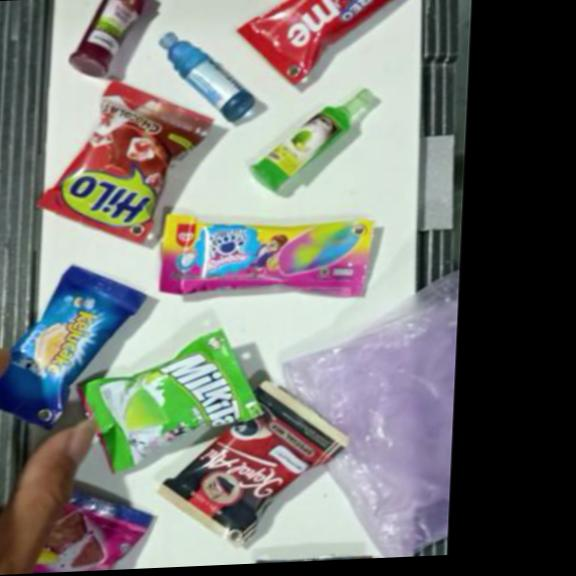Plastik: (274, 267, 461, 563), (156, 376, 353, 548), (36, 75, 213, 249), (70, 326, 262, 476), (0, 262, 148, 431), (158, 205, 374, 305), (231, 0, 418, 88), (248, 87, 375, 197), (156, 27, 257, 127), (33, 491, 153, 573), (68, 0, 146, 79)
